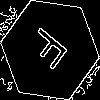F: (25, 25, 77, 77)
